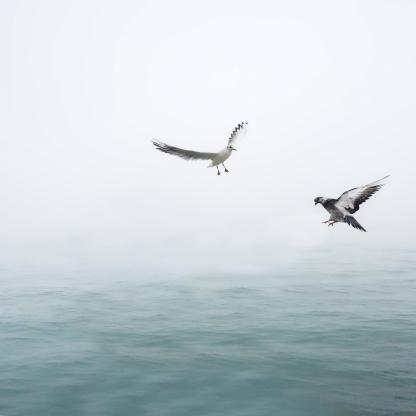bird: (151, 121, 248, 176), (314, 175, 390, 232)
